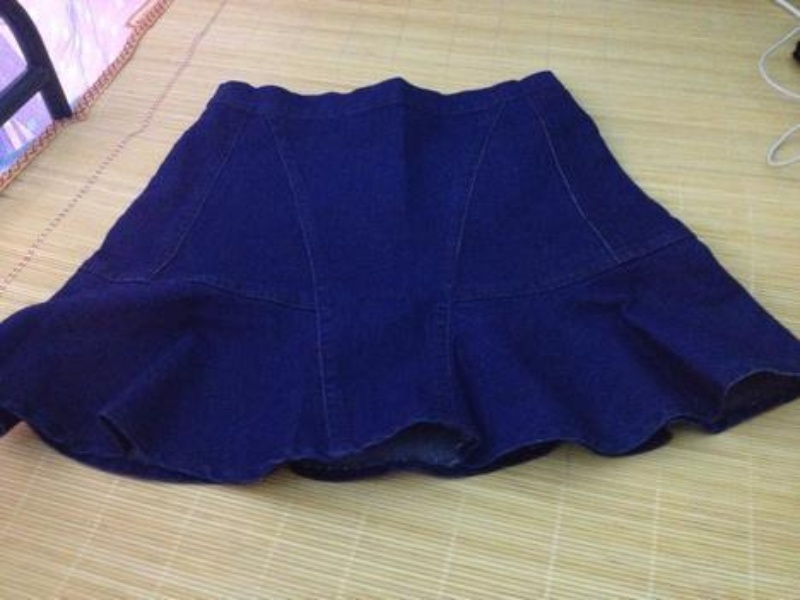skirt: (2, 68, 798, 491)
